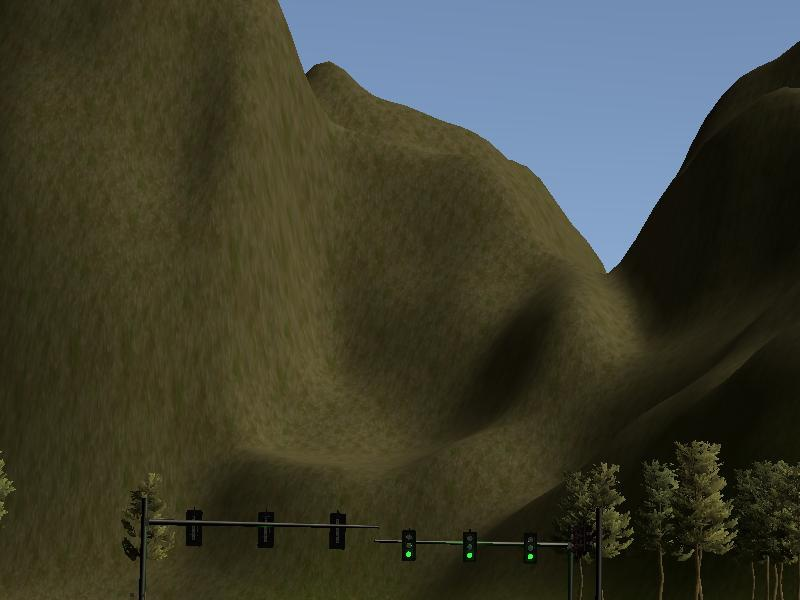Green: (459, 529, 480, 565), (400, 527, 418, 563), (521, 530, 539, 565)
